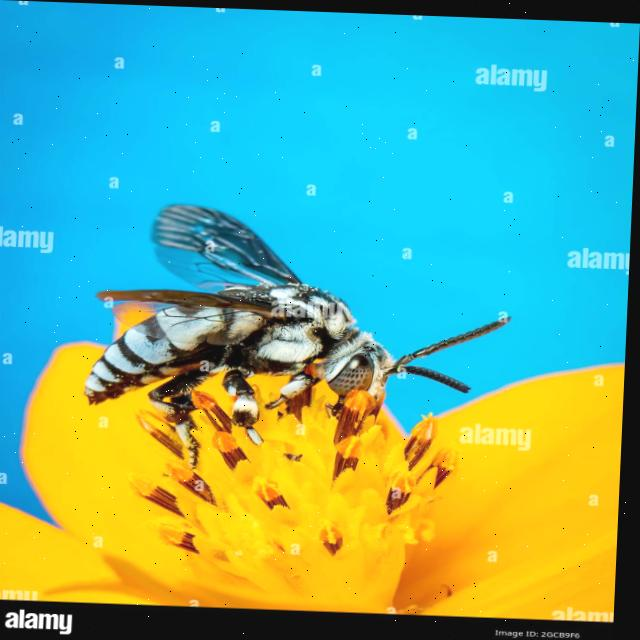Thyreus: (78, 190, 516, 454)
